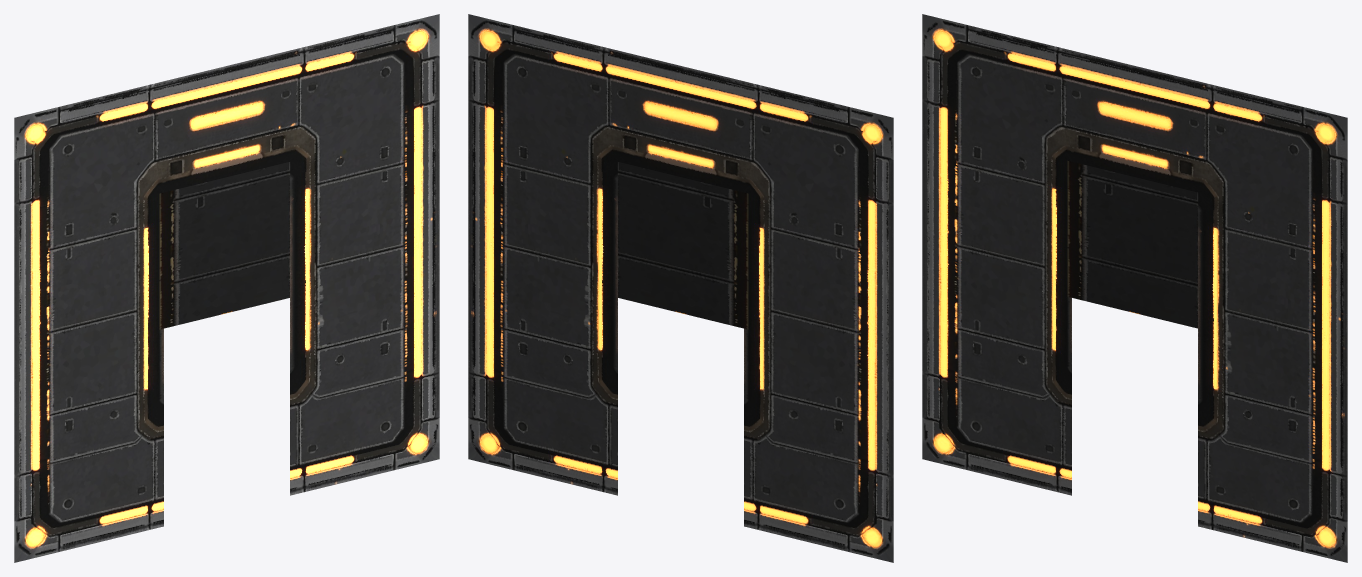
The model's file is cube_wall.glb.
3 views of the same model, side by side, from view 1: azimuth 30°, elevation 25°; view 2: azimuth 150°, elevation 25°; view 3: azimuth 330°, elevation 25° (orthographic).
Size of the model in its own units: 5.4 by 5.4 by 0.
1 material, 1 textured.
